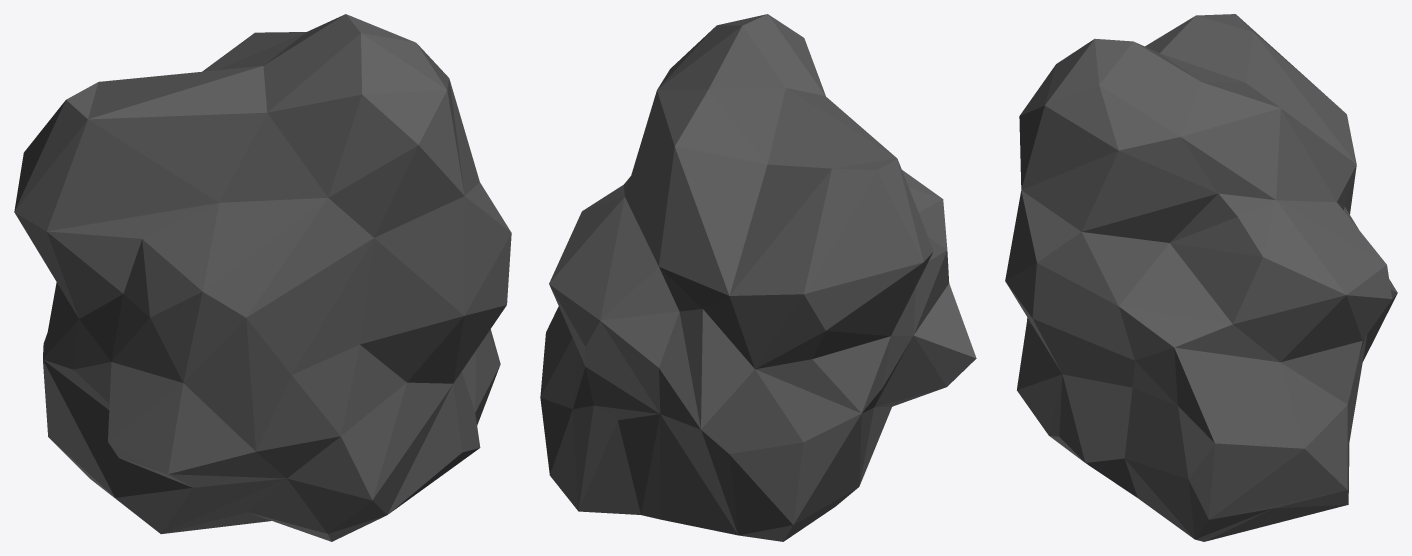
Rendered from Stone_6.fbx.
3 views of the same model, side by side, from view 1: azimuth 30°, elevation 25°; view 2: azimuth 150°, elevation 25°; view 3: azimuth 270°, elevation 25° (orthographic). The views are drawn at different scales.
Parts seen in each view (by area): view 1: Stone_6; view 2: Stone_6; view 3: Stone_6.
Boxes of the visible parts, x1=… form: Stone_6: x1=14, y1=14, x2=511, y2=541; Stone_6: x1=540, y1=14, x2=976, y2=541; Stone_6: x1=1005, y1=14, x2=1397, y2=541.
Size of the model in its own units: 3 by 3.4 by 2.58.
